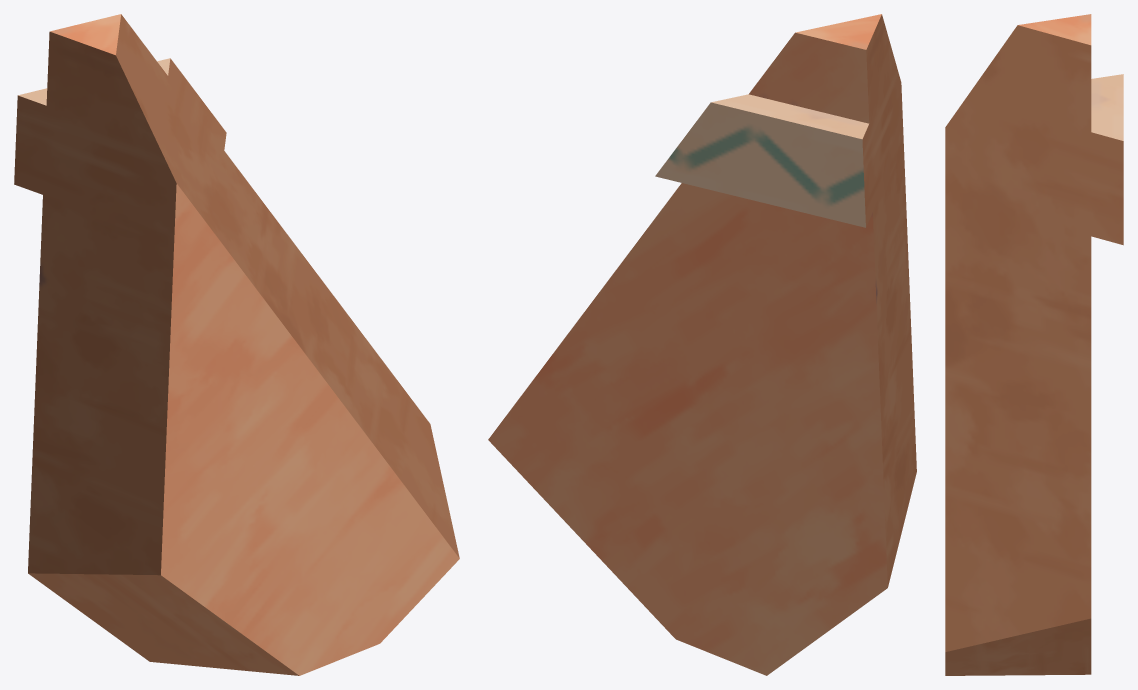
The model's file is wall2_plain_s09.fbx.
3 renders of one model, left to right at view 1: azimuth 30°, elevation 25°; view 2: azimuth 150°, elevation 25°; view 3: azimuth 270°, elevation 25°, orthographic. The views are drawn at different scales.
Visible parts, largest first — view 1: wall2_plain_s09; view 2: wall2_plain_s09; view 3: wall2_plain_s09.
Boxes of the visible parts, left/top/right/bottom form: wall2_plain_s09: left=14, top=14, right=459, bottom=675; wall2_plain_s09: left=488, top=14, right=916, bottom=675; wall2_plain_s09: left=945, top=14, right=1123, bottom=675.
Size of the model in its own units: 2.86 by 4.45 by 1.22.
